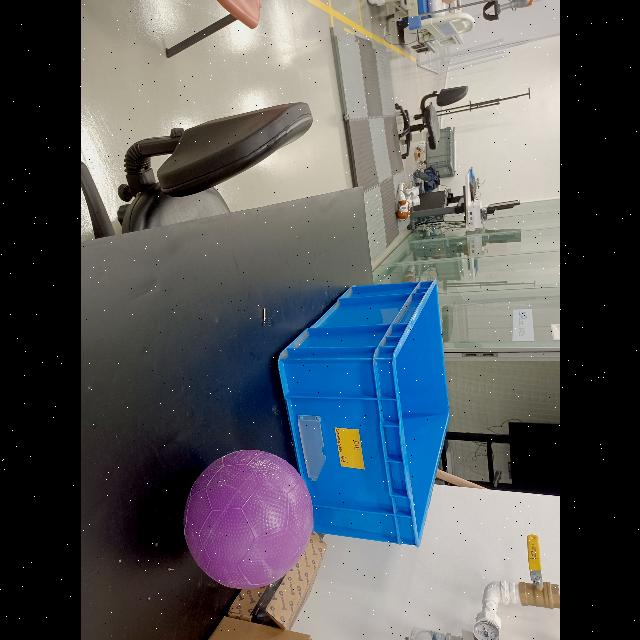P: (183, 452, 311, 592)
